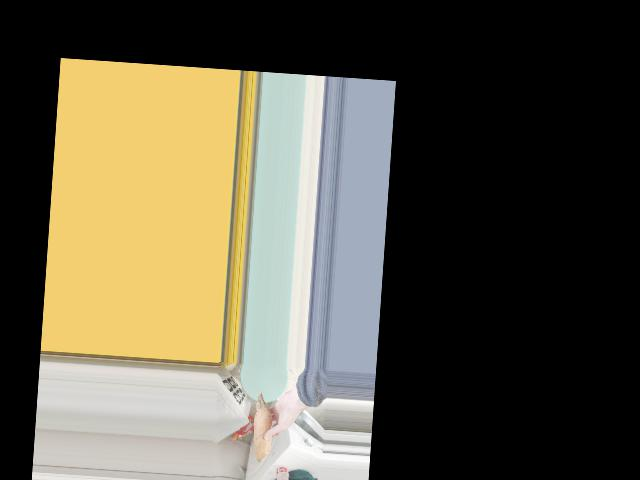sweet_potato: (252, 393, 279, 454)
